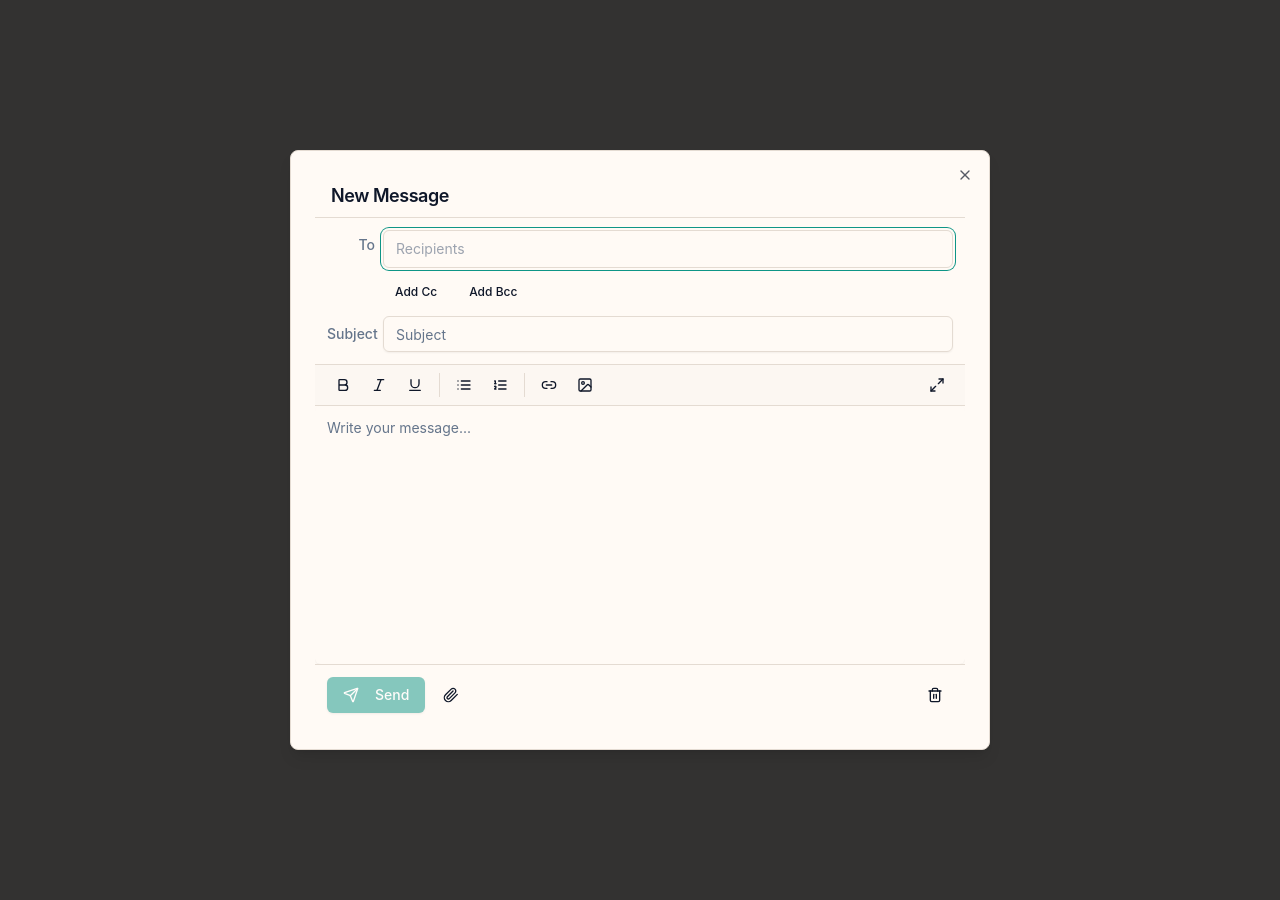
MessageComposer › fullscreen toggle › should toggle fullscreen mode when clicked
Click the button titled "Fullscreen" at (937, 385), box [921,369,953,401]
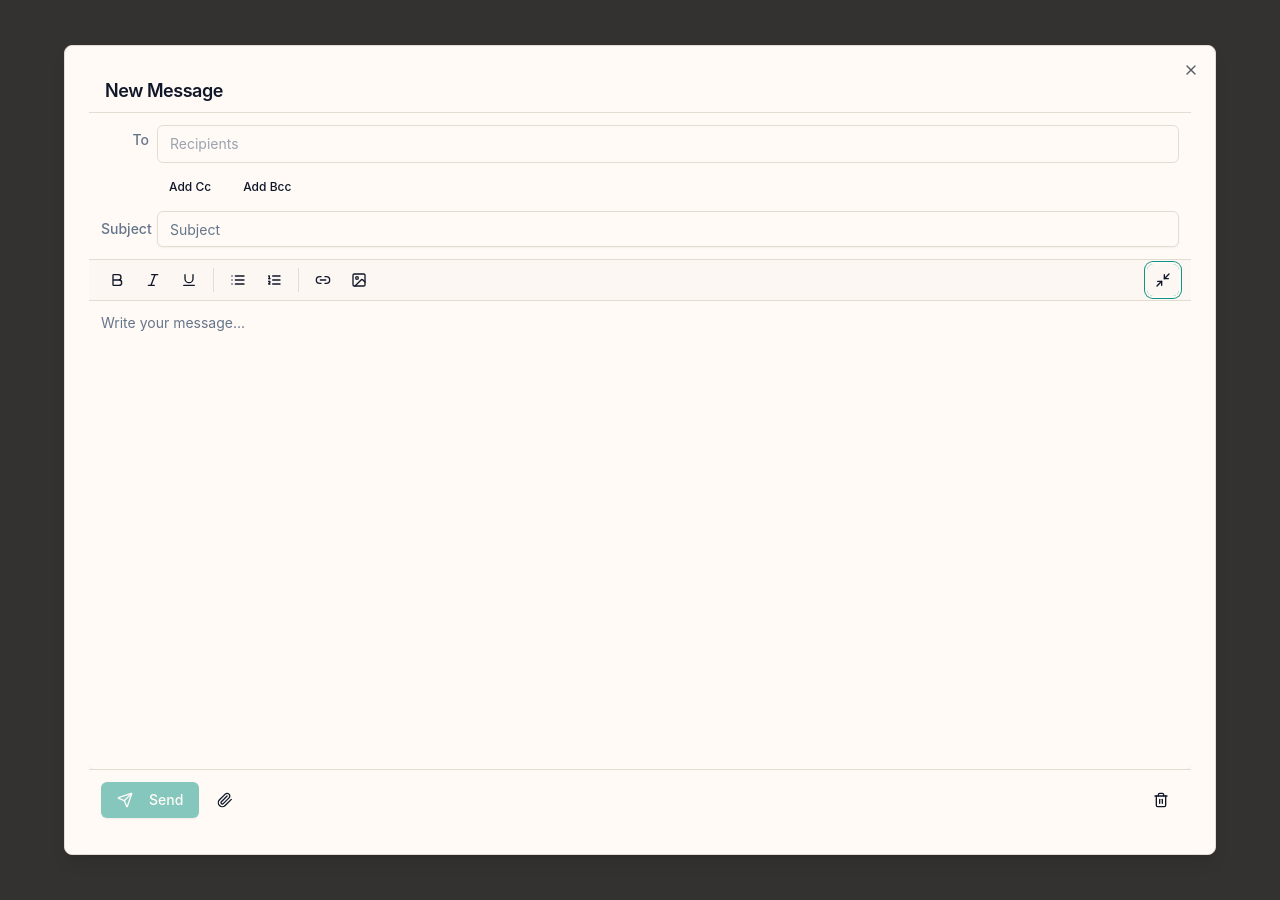
Result: the button titled "Exit fullscreen" is shown at [1147,264,1179,296]
